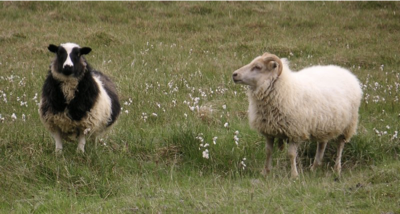koyun: (232, 51, 364, 179), (41, 41, 121, 157)
